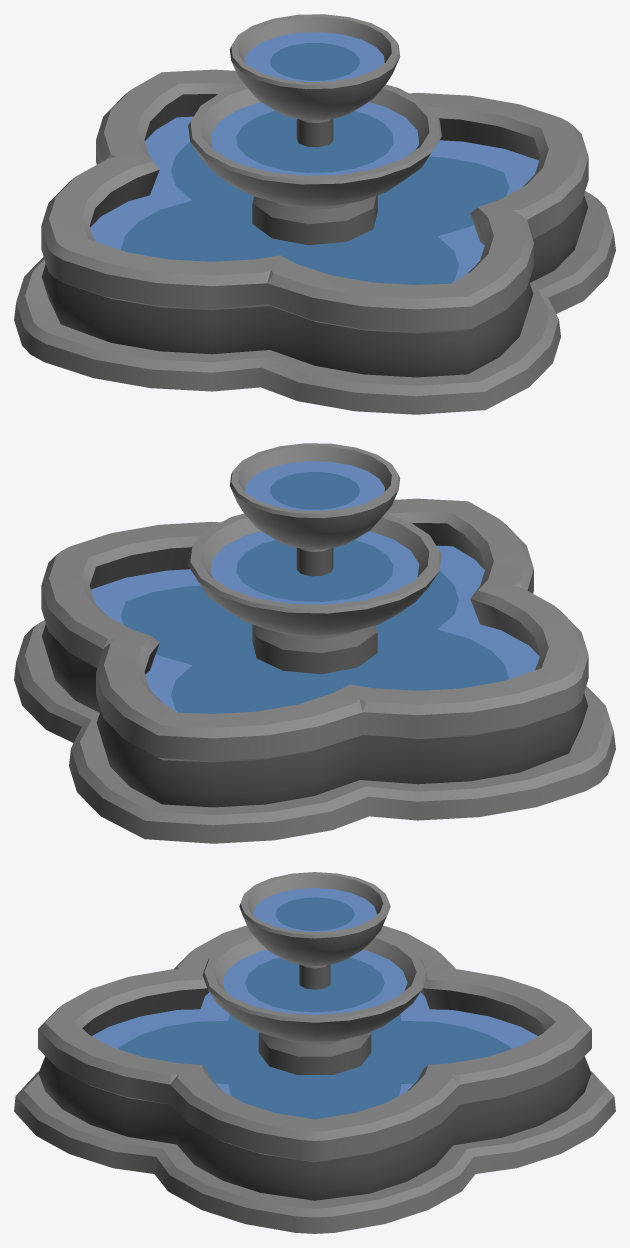
The model's file is Fountain_1_B.fbx.
3 views of the same model, one above another, from view 1: azimuth 30°, elevation 25°; view 2: azimuth 150°, elevation 25°; view 3: azimuth 270°, elevation 25° (orthographic). The views are drawn at different scales.
Parts seen in each view (by area): view 1: Fountain_1_B; view 2: Fountain_1_B; view 3: Fountain_1_B.
Boxes of the visible parts, left/top/right/bottom form: Fountain_1_B: left=14, top=14, right=615, bottom=414; Fountain_1_B: left=14, top=443, right=615, bottom=843; Fountain_1_B: left=14, top=872, right=615, bottom=1233.
Bounding box in the file's own units: 381 × 151 × 396.
